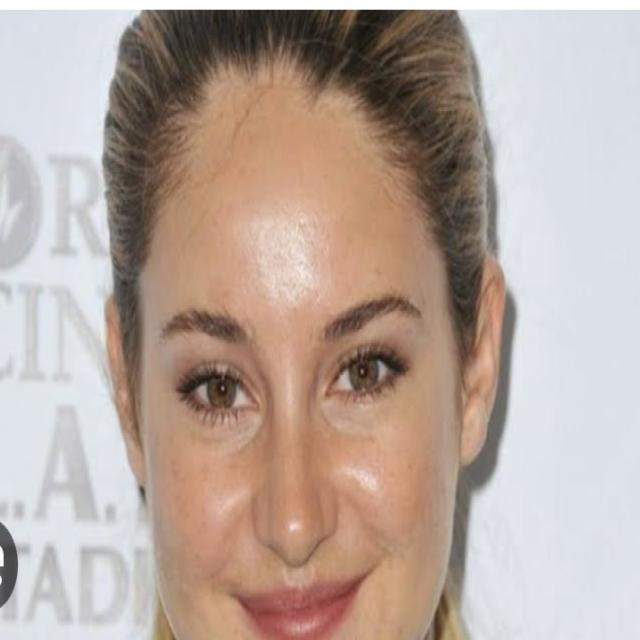Oily-Skin: (330, 399, 429, 590), (238, 132, 324, 316), (164, 453, 258, 604)
